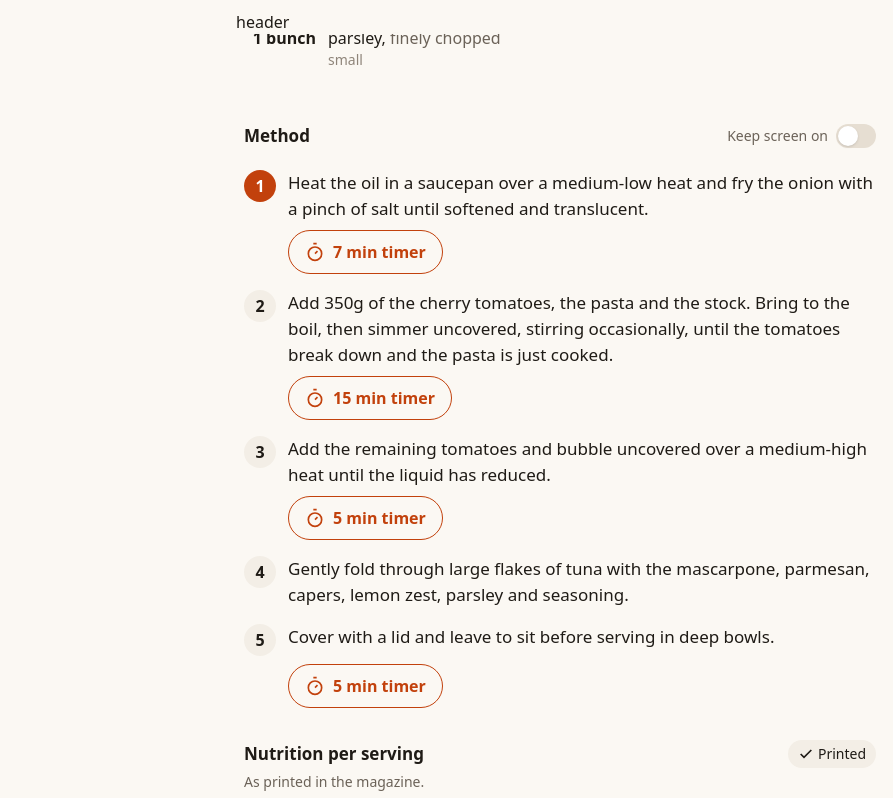
it: step timers (recipe design D, PP-178) › puts timers whose step is off screen in a pill that scrolls back to it
This screenshot has width=893, height=798.
(page scrolled)
Click the button "15 min timer": (370, 398) [288,376,452,420]
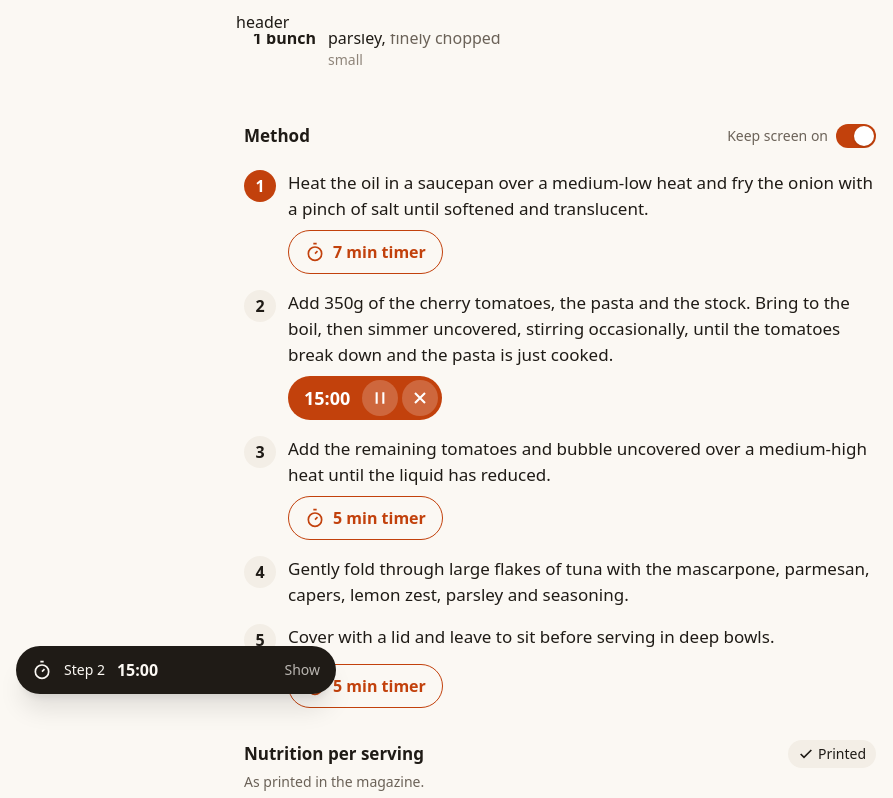
Result: the button "Step 2 15:00 Show" is shown
Click the button "Step 2 15:00 Show": (176, 670) [16,646,336,694]
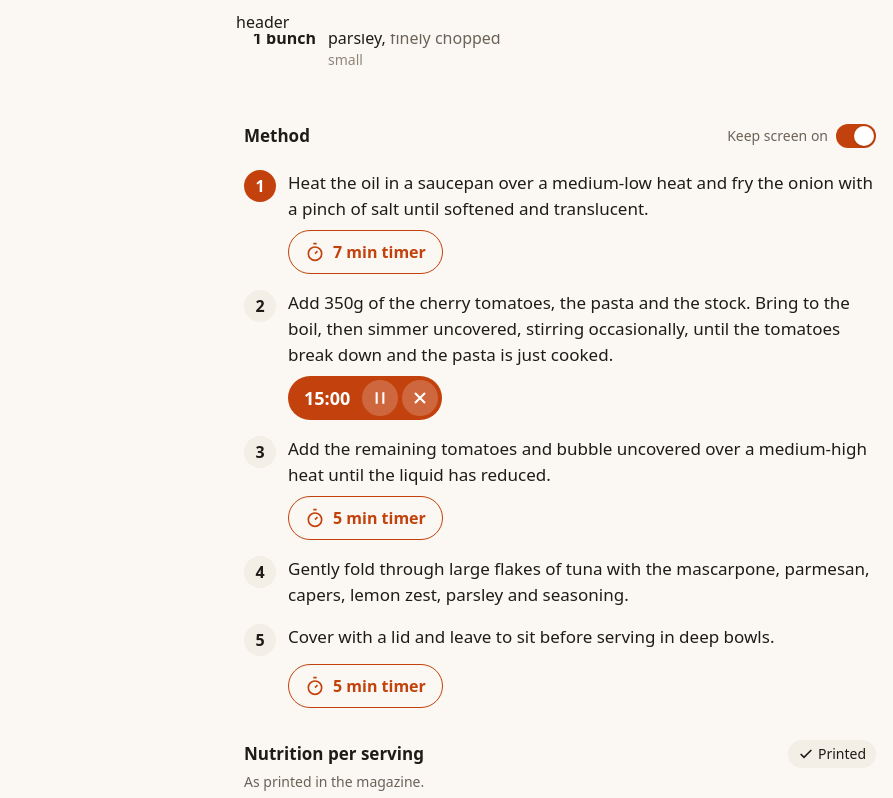
Result: the button "Step 2 15:00 Show" is gone
